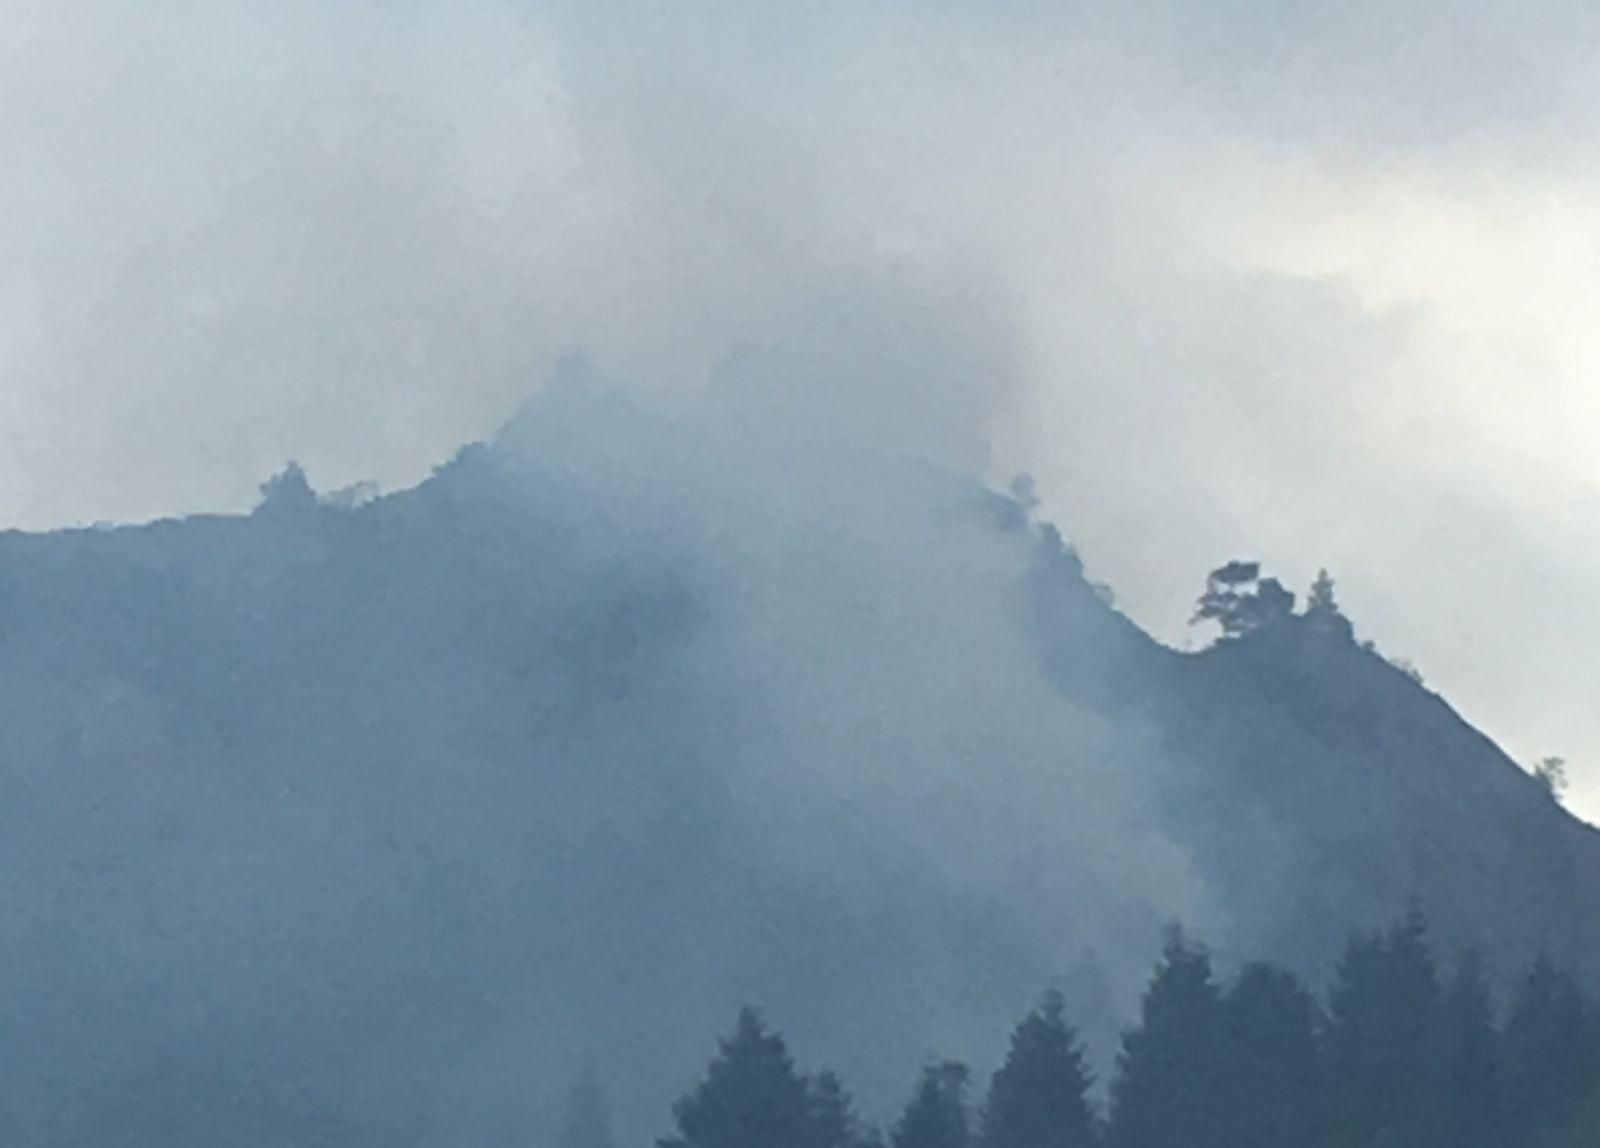smoke: (482, 81, 1265, 1001)
